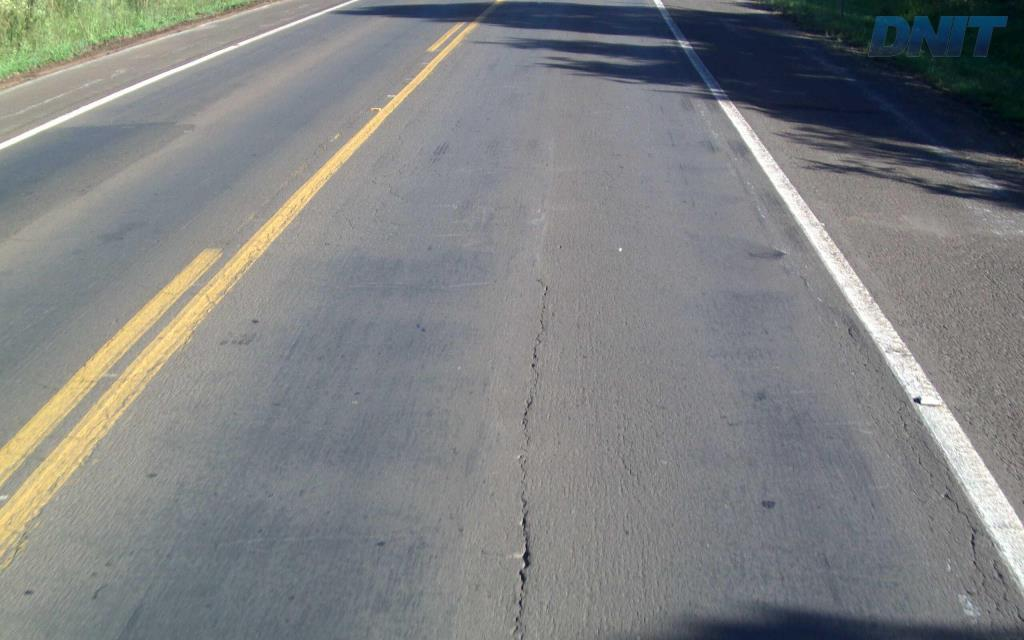crack: (518, 490, 532, 597)
